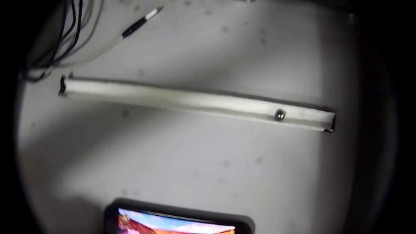gangzhu: (274, 109, 286, 120)
